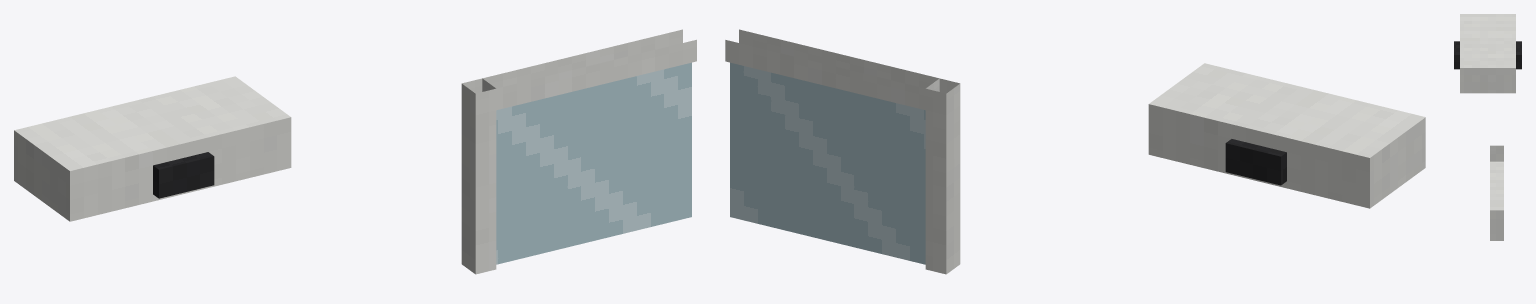
Rendered from auto_door_wide_slider_white_c1_upper_right_open.obj.
3 renders of one model, left to right at view 1: azimuth 30°, elevation 25°; view 2: azimuth 150°, elevation 25°; view 3: azimuth 270°, elevation 25°, orthographic. The views are drawn at different scales.
Parts seen in each view (by area): view 1: auto_door_wide_slider_white_c1_upper_right_open; view 2: auto_door_wide_slider_white_c1_upper_right_open; view 3: auto_door_wide_slider_white_c1_upper_right_open.
Part boxes in pixels (x1=…): auto_door_wide_slider_white_c1_upper_right_open: x1=14, y1=29, x2=696, y2=274; auto_door_wide_slider_white_c1_upper_right_open: x1=725, y1=29, x2=1425, y2=274; auto_door_wide_slider_white_c1_upper_right_open: x1=1454, y1=14, x2=1521, y2=240.
Size of the model in its own units: 2.97 by 1 by 0.5312.
